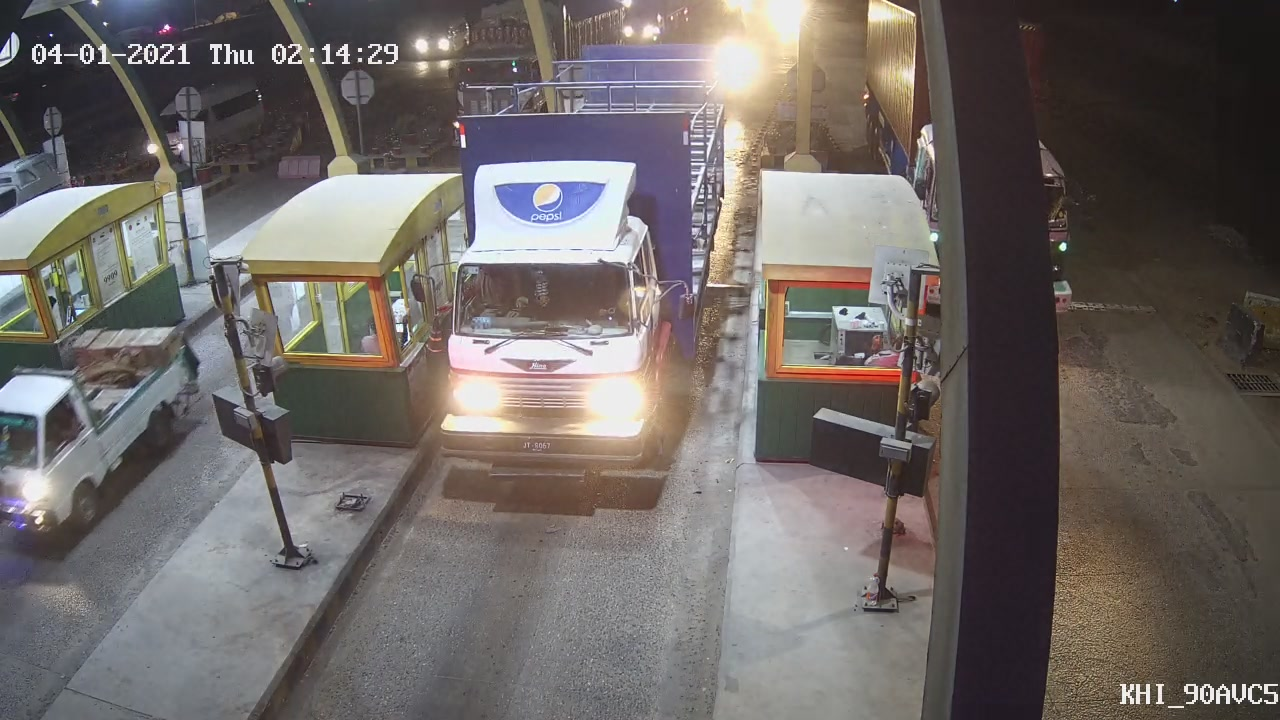F5: (408, 60, 723, 491)
